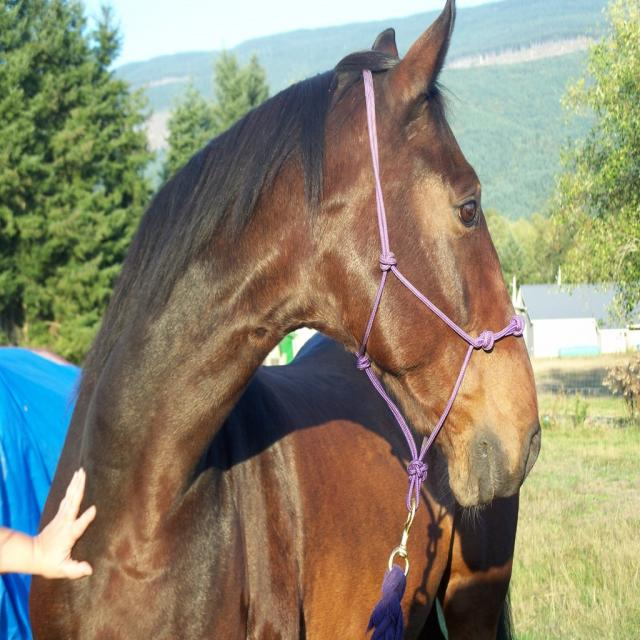Horse: (29, 0, 541, 640)
